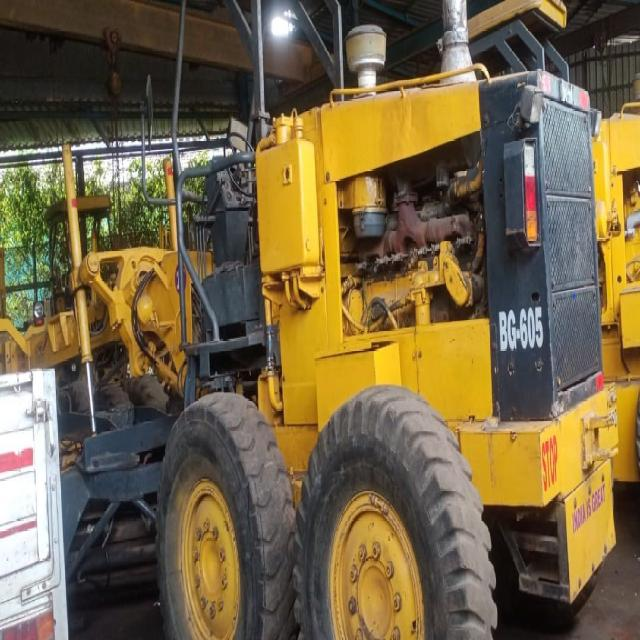buldozerpayloadergrader: (58, 141, 590, 640)
